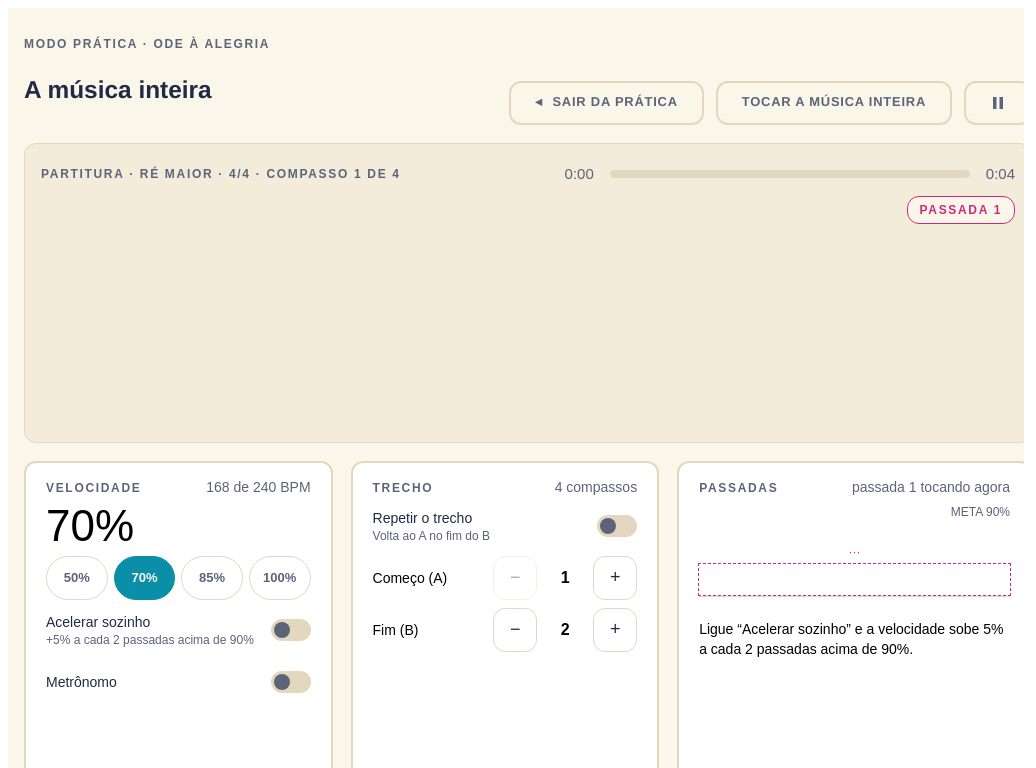
Scenario: Practice › velocidade e laço comandam a prática
Click the button "50%" at (77, 578), box x1=46 y1=556 x2=108 y2=600
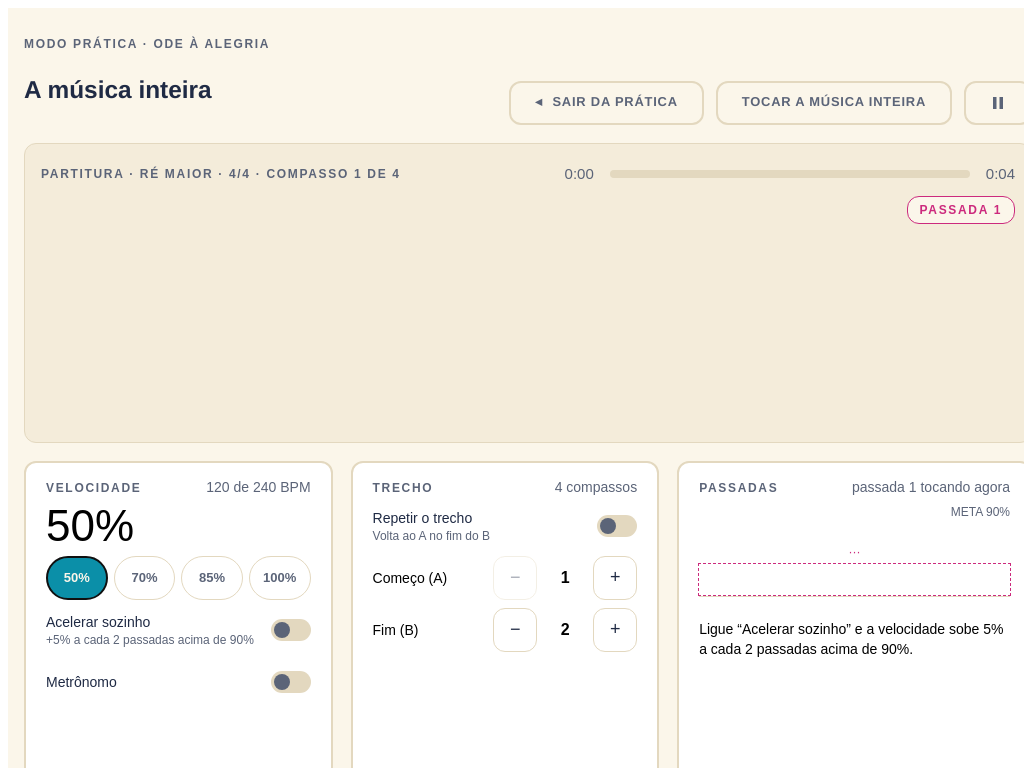
Expected: the button "50%" is pressed, x1=46 y1=556 x2=108 y2=600
Click the button named "Fim (B) um compasso depois" at (615, 630), box x1=593 y1=608 x2=637 y2=652
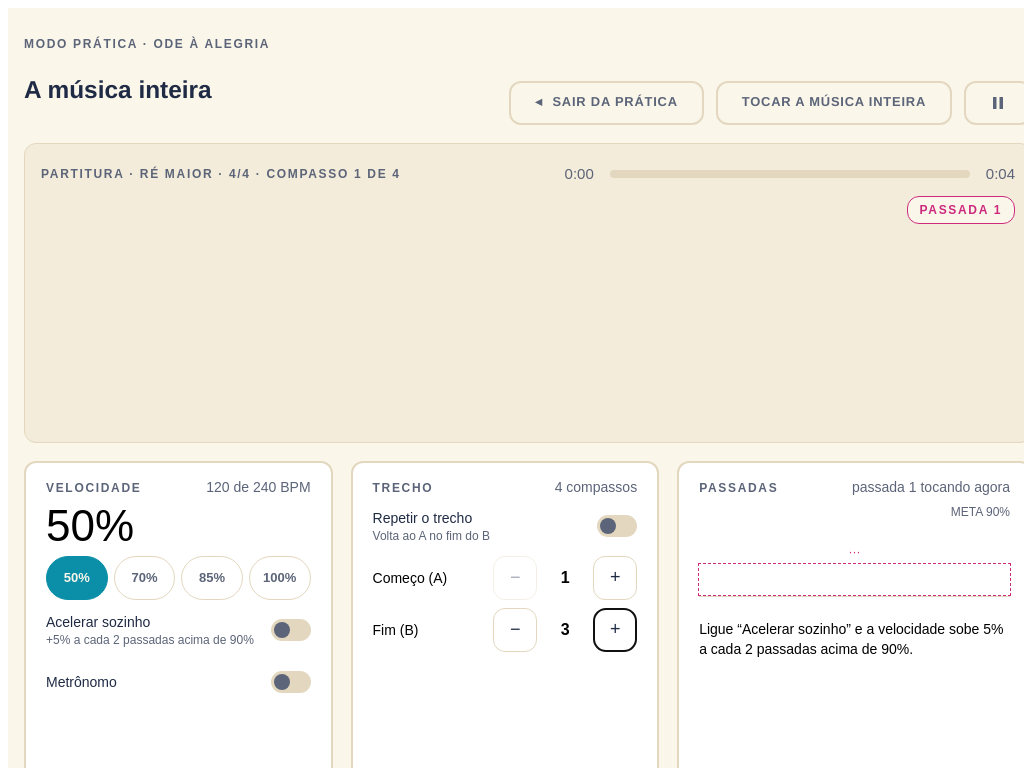
Click the switch labelled "Repetir o trecho Volta ao A no fim do B" at (617, 526), box x1=595 y1=504 x2=639 y2=548
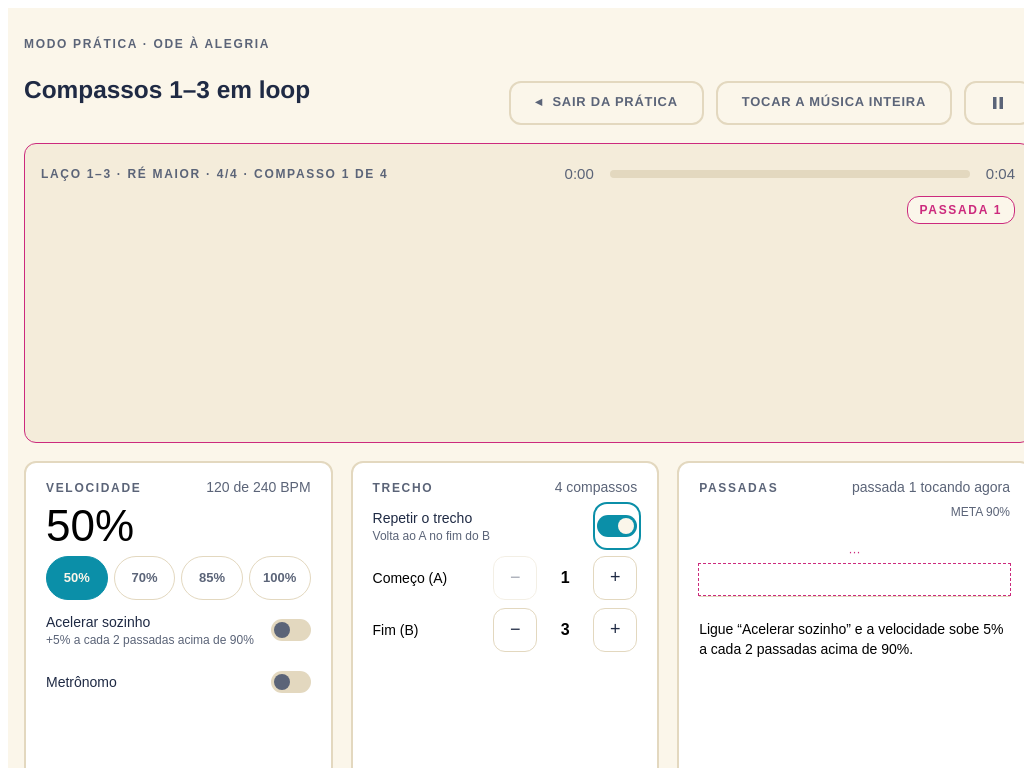
Expected: the heading "Compassos 1–3 em loop" is shown, x1=24 y1=75 x2=310 y2=107
